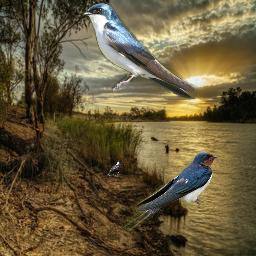Crow: (107, 159, 123, 177)
Swallow: (82, 3, 198, 99), (122, 152, 219, 233)
